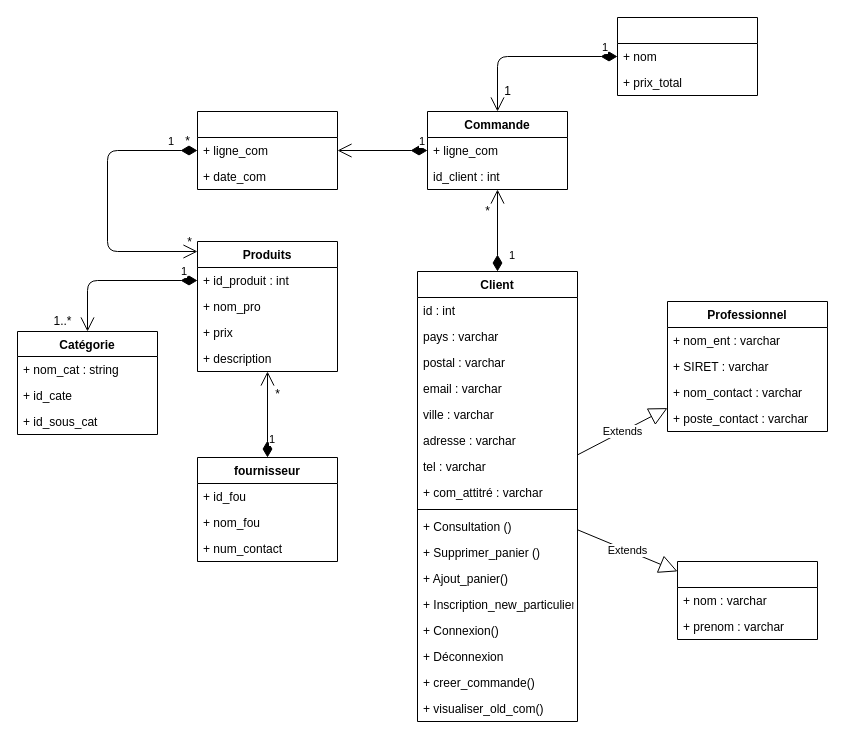
The diagram is 845 pixels wide and 742 high, and some of its shapes have lost their labels. Each missing label, with the box of its shape:
Facture: (616, 16, 758, 96)
ligne_commande: (196, 110, 338, 190)
Particulier: (676, 560, 818, 640)
